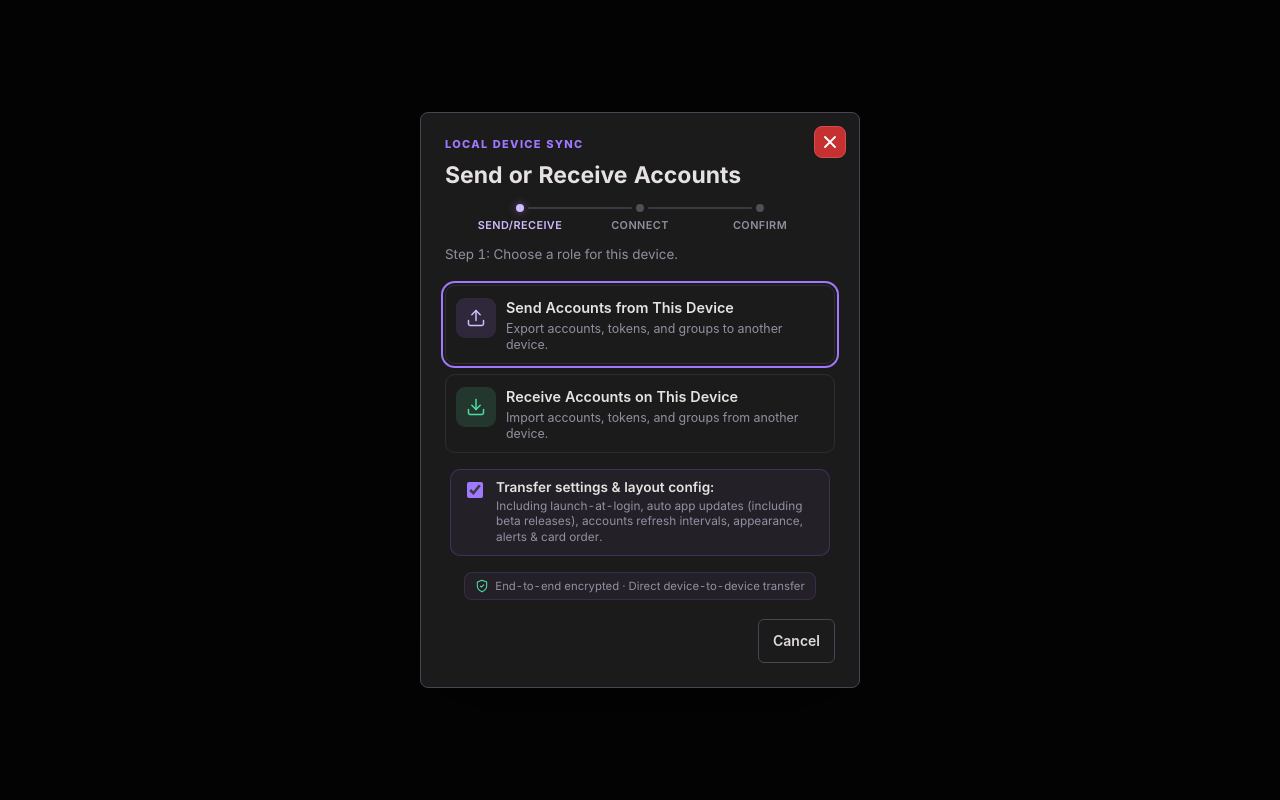
Test: mobile Wi-Fi prompt for link codes › cancels the prompt and stays on the connection choices
Click the button that starts with "Send Accounts from This Device": (640, 324) [445,285,835,364]
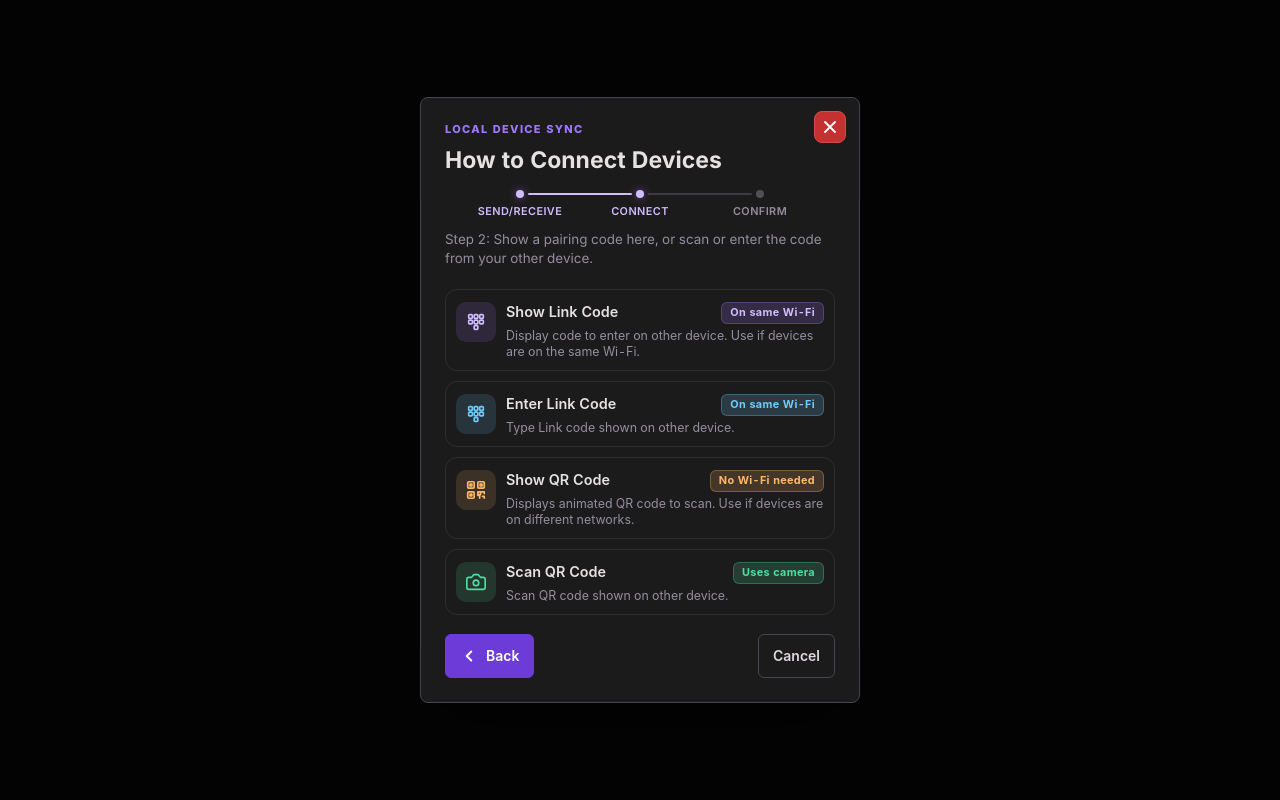
Click the button that starts with "Show Link Code": (640, 330) [445,289,835,371]
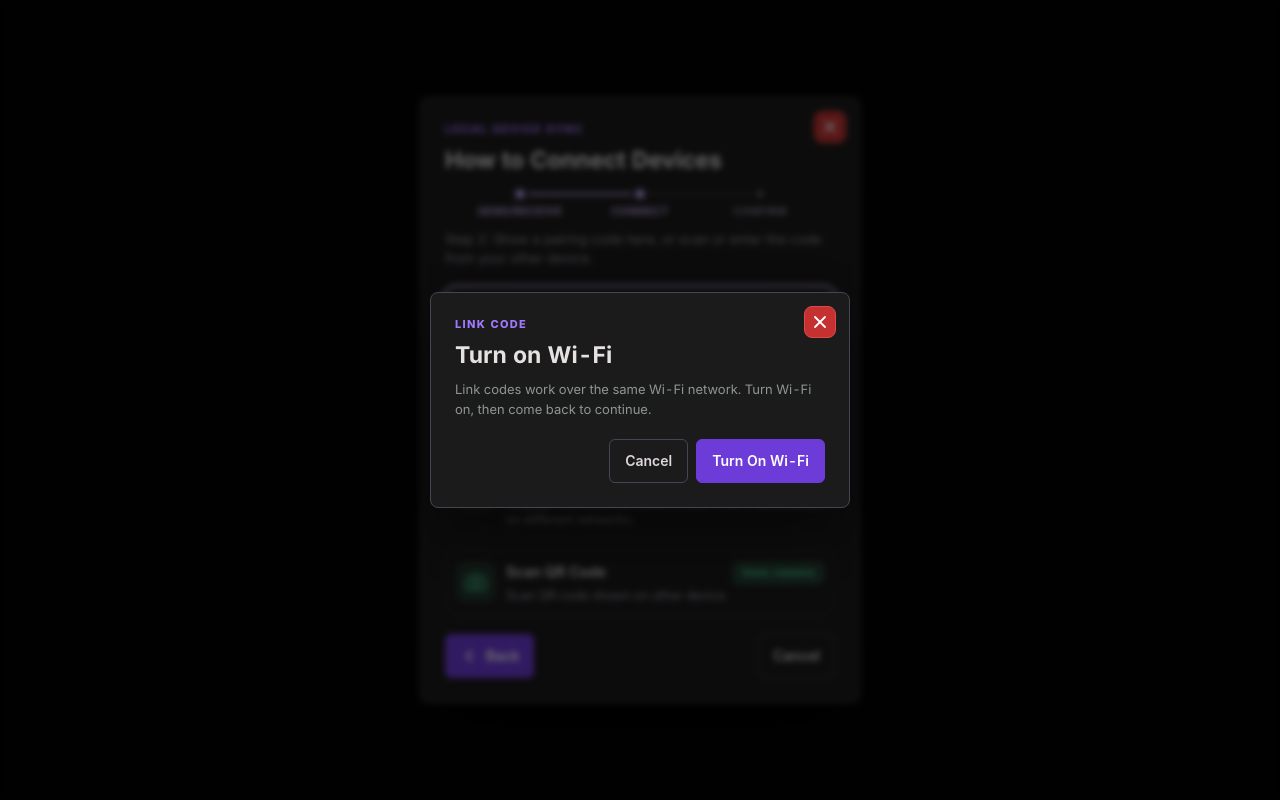
Click the button with class "ghost" showing "Cancel": (649, 461) [609,439,688,483]
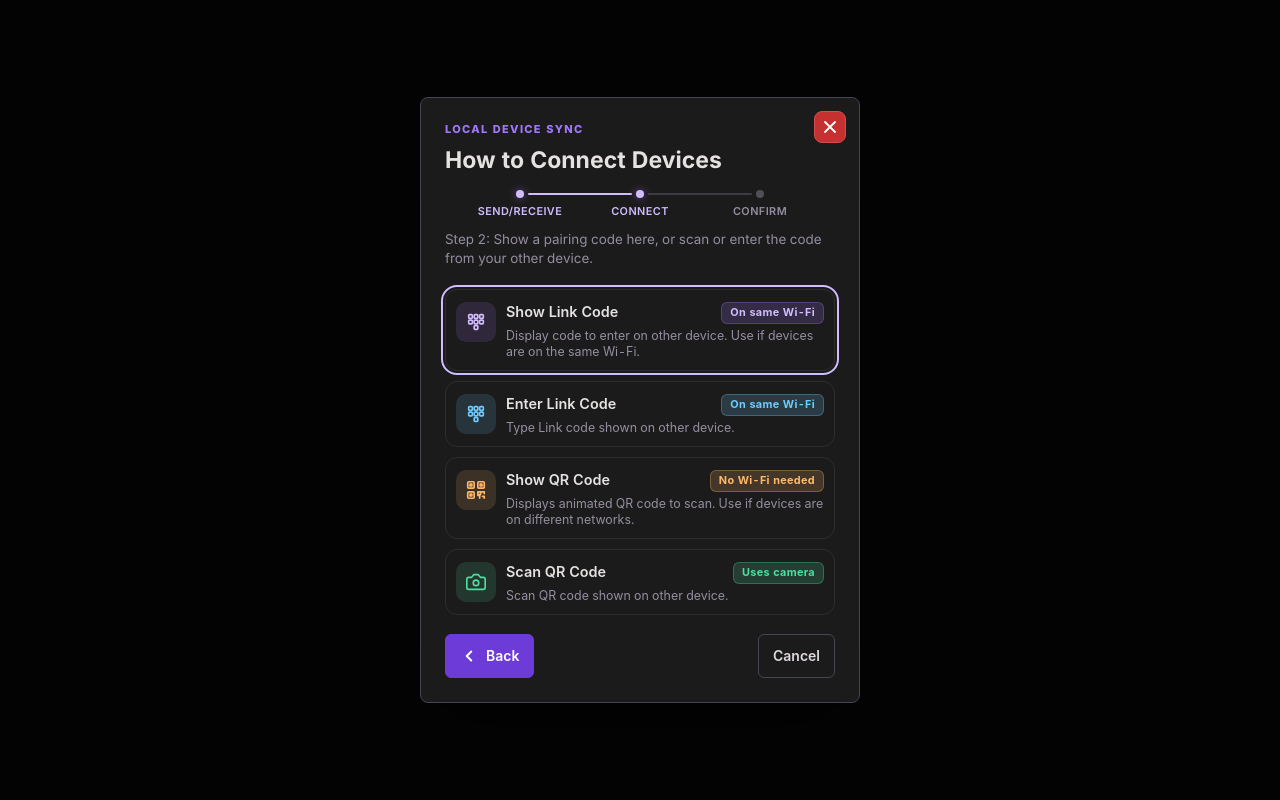
Expected: the heading "How to Connect Devices" is shown, [445,146,722,174]
Expected: the element with class "confirm-dialog-backdrop" is gone
